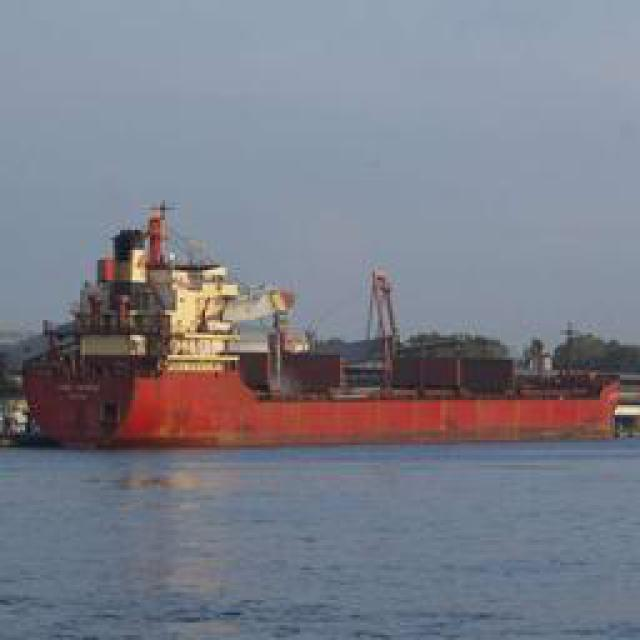Ship: (27, 204, 620, 439)
